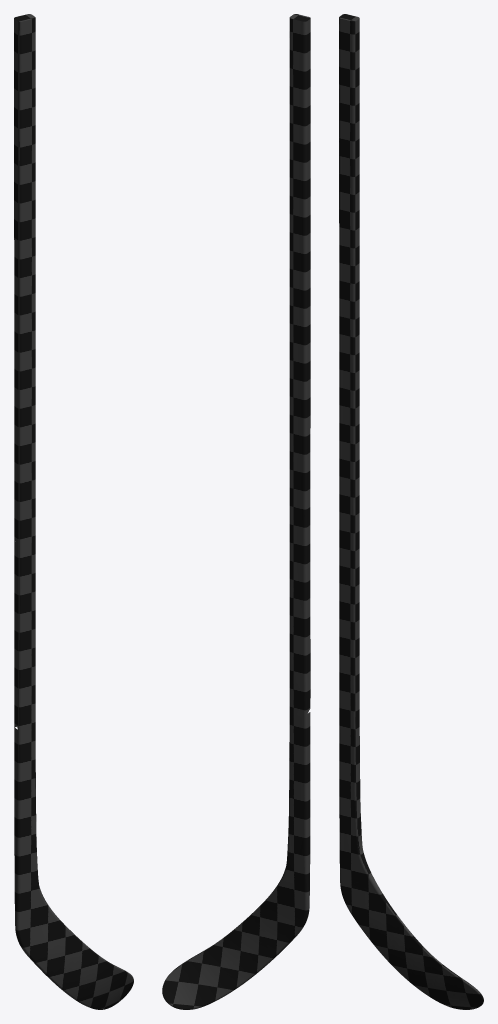
3 renders of one model, left to right at view 1: azimuth 30°, elevation 25°; view 2: azimuth 150°, elevation 25°; view 3: azimuth 330°, elevation 25°, orthographic. The views are drawn at different scales.
Visible parts, largest first — view 1: geometry_0; view 2: geometry_0; view 3: geometry_0.
Boxes of the visible parts, x1,y1,x2,y2 form: geometry_0: (14,14,133,1009); geometry_0: (162,14,310,1009); geometry_0: (339,14,483,1009).
Bounding box in the file's own units: 224 × 1650 × 65.71.
Materials: 1 (1 with a texture image).
